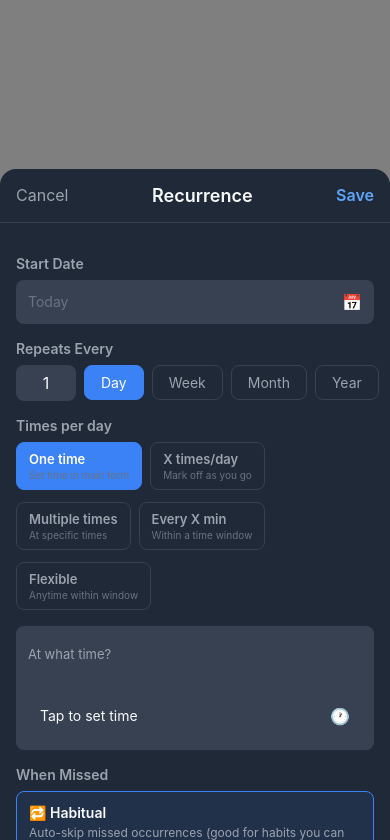
Test: RecurrencePicker › frequency selection › changes frequency when Week pressed
Step 1. Click the radio button labelled "Week" → (187, 383), box [152,365,223,400]
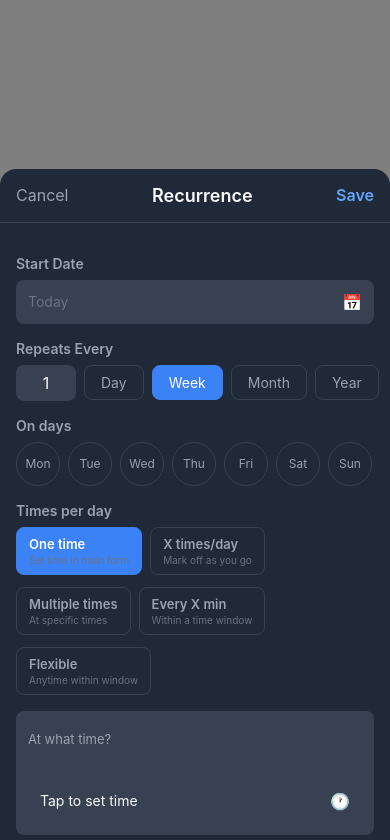
Check: the text "On days" is shown, box [16,417,71,434]
